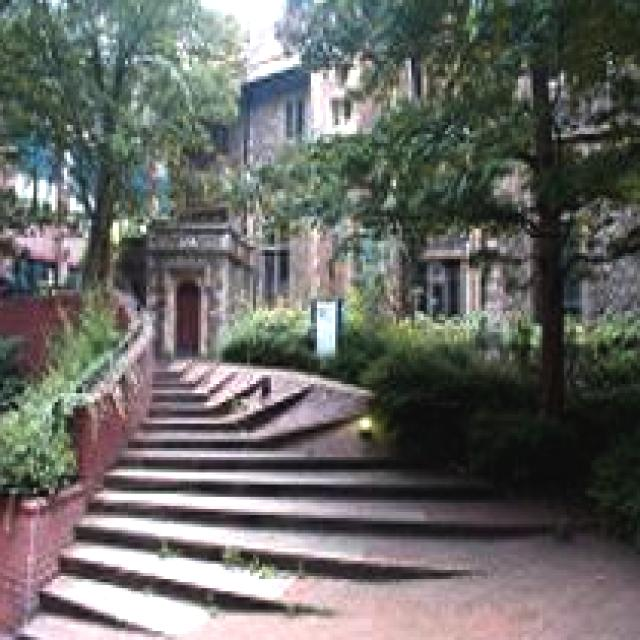upstair: (44, 342, 473, 617)
